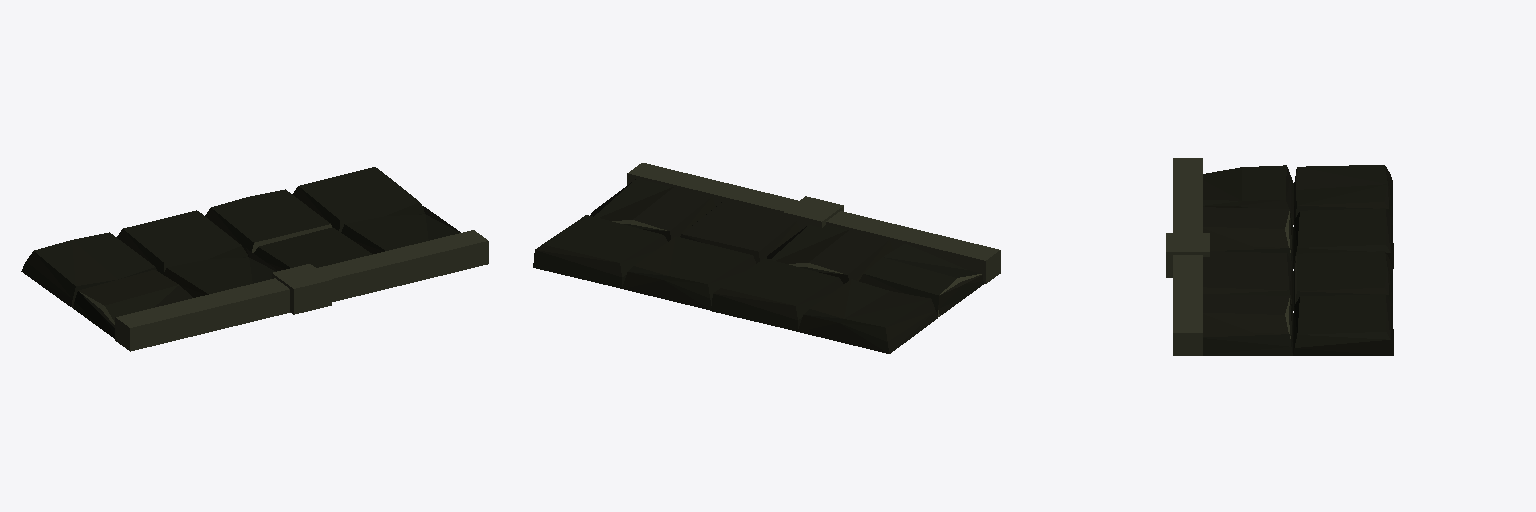
Rendered from Floor_Hole_Straight.obj.
The picture shows the model from 3 angles: view 1: azimuth 30°, elevation 25°; view 2: azimuth 150°, elevation 25°; view 3: azimuth 270°, elevation 25°; orthographic projection.
Parts seen in each view (by area): view 1: Floor_Hole_Straight_Cube.031; view 2: Floor_Hole_Straight_Cube.031; view 3: Floor_Hole_Straight_Cube.031.
Part boxes in pixels (x1,y1,x2,y2): Floor_Hole_Straight_Cube.031: (21, 167, 488, 351); Floor_Hole_Straight_Cube.031: (533, 163, 1000, 353); Floor_Hole_Straight_Cube.031: (1166, 158, 1393, 355).
Size of the model in its own units: 2 by 0.1427 by 1.1.